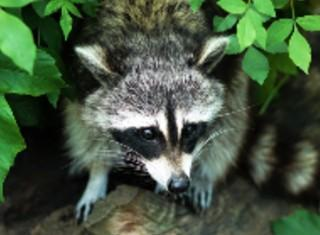raccoon: (60, 0, 249, 226)
